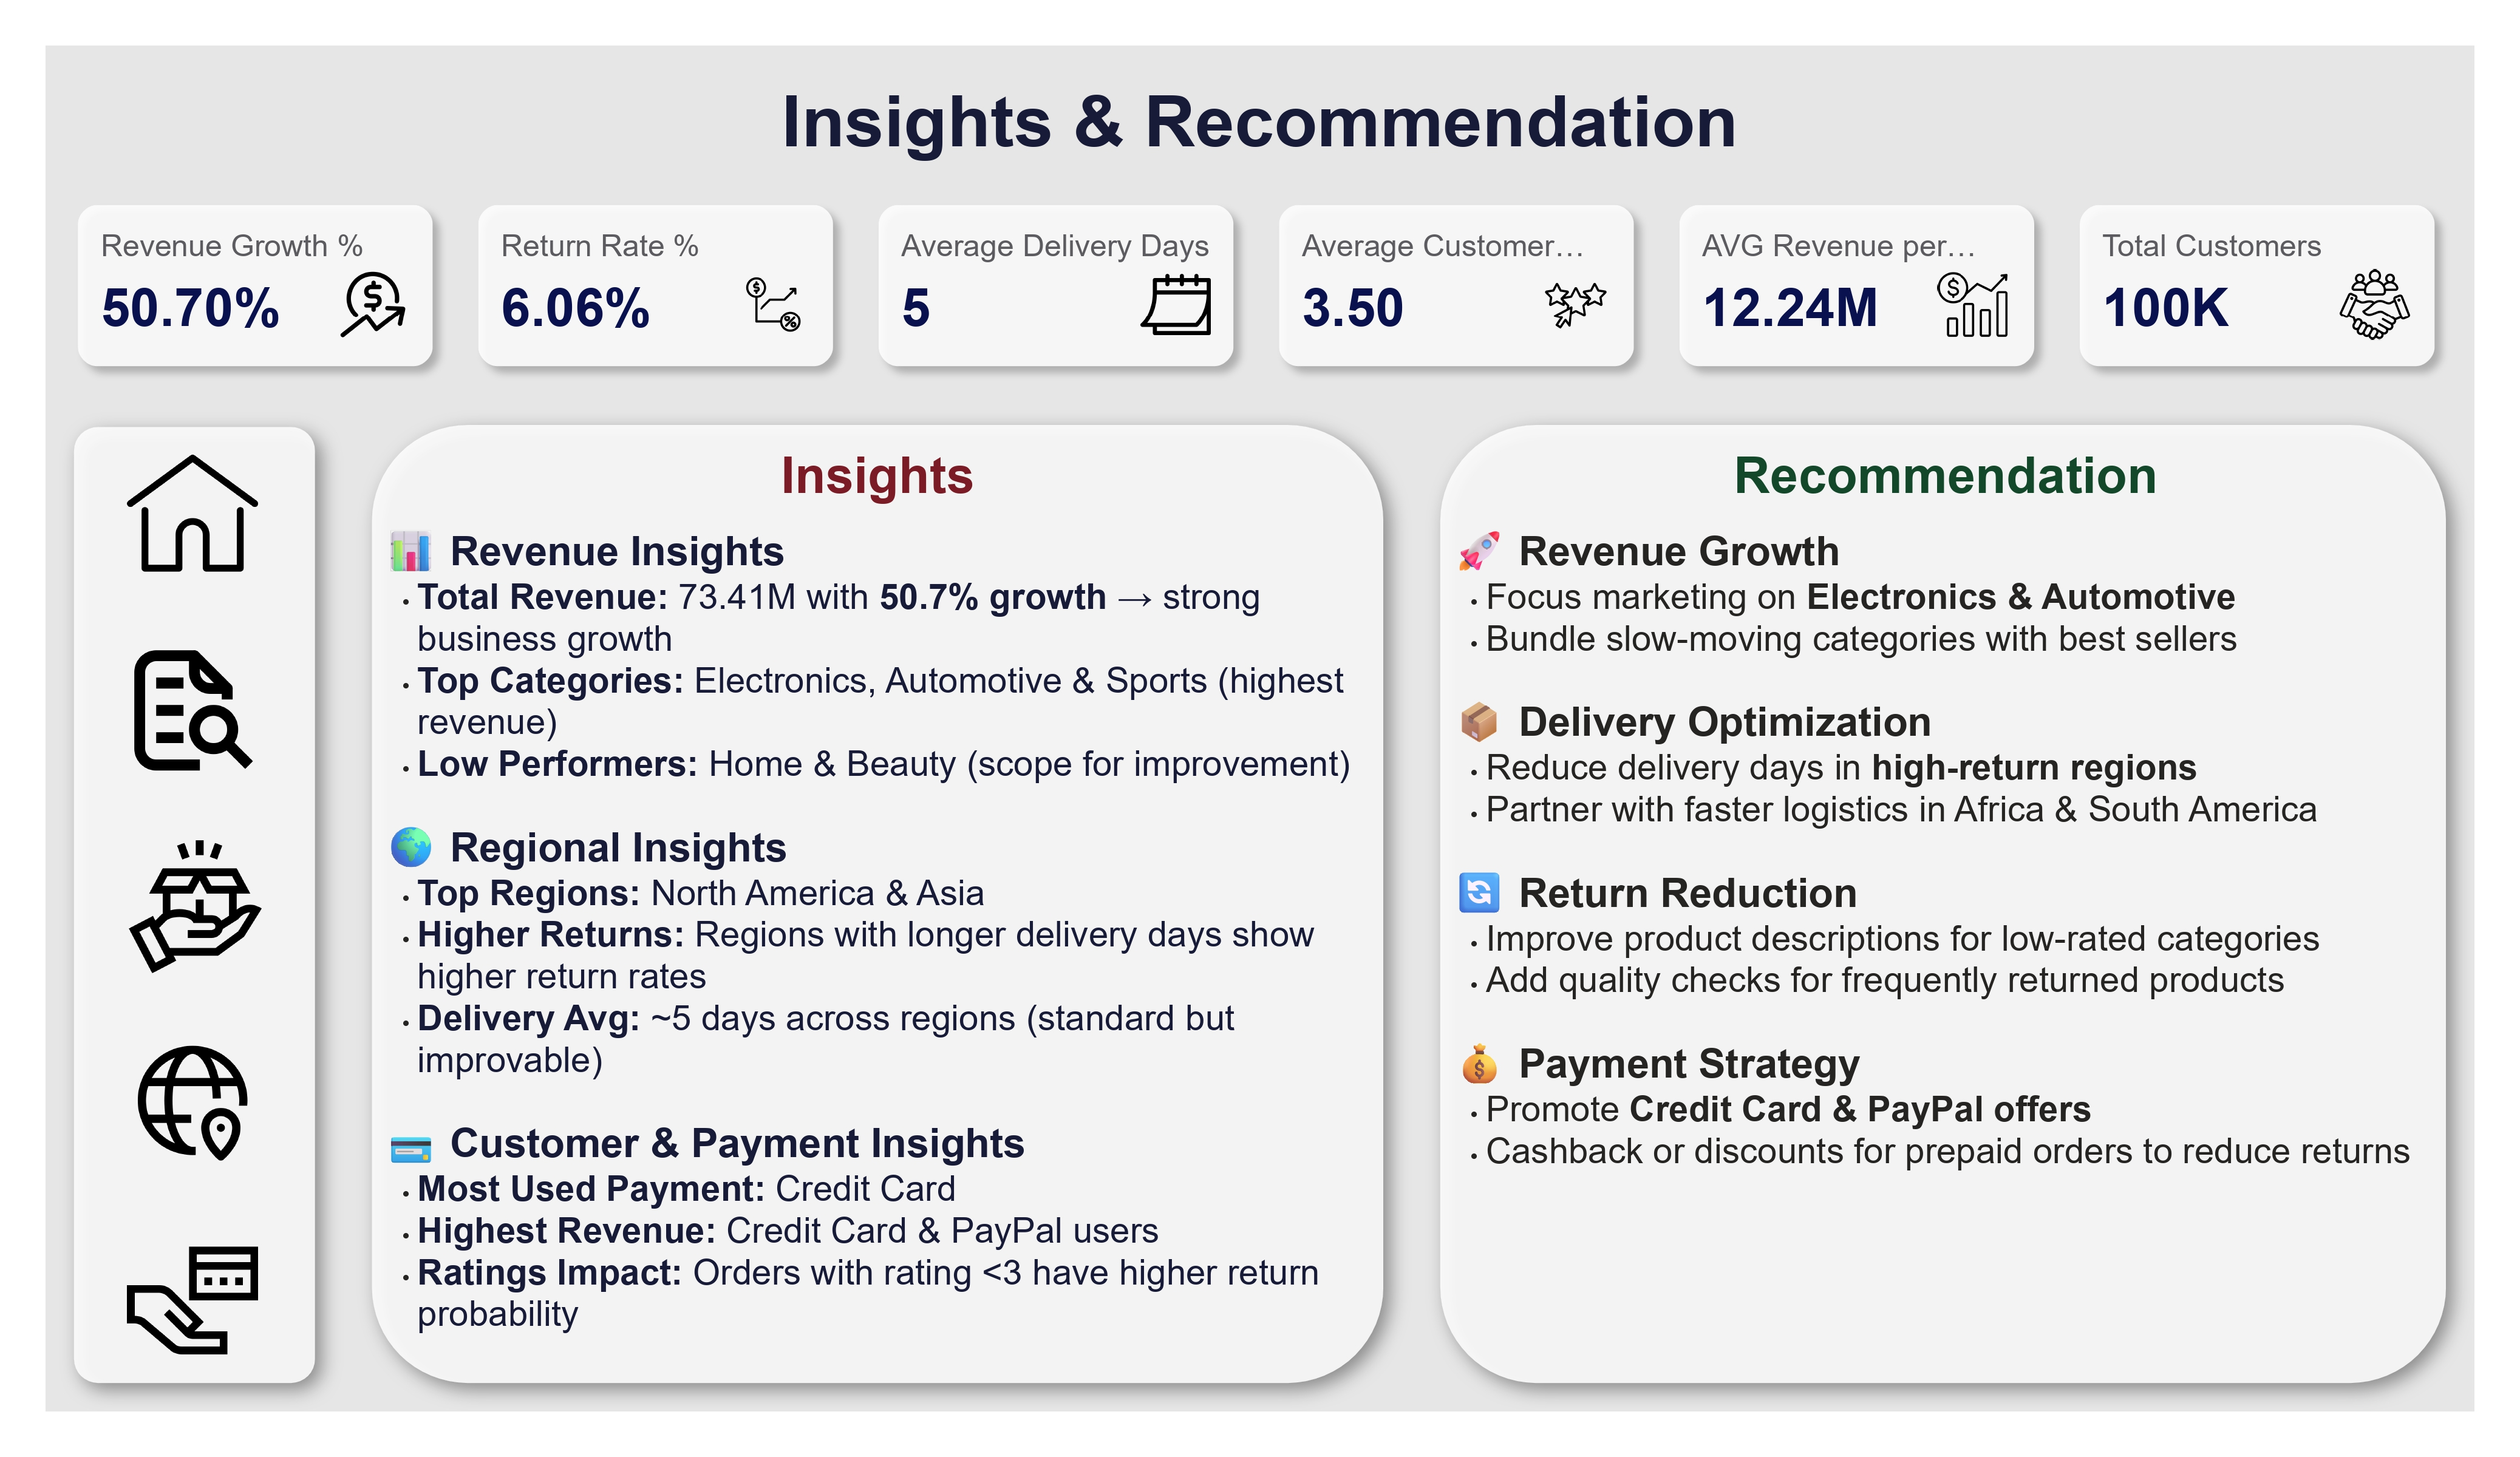

Layout of this report page (visuals, bound fields, positions):
{"tool":"powerbi","page":{"name":"Recommendations","canvas":[1280,720],"ordinal":5},"visuals":[{"type":"textbox","box":[375.7,14.3,528.6,52.9],"z":0},{"type":"shape","box":[0,185.7,157.1,534.3],"z":0},{"type":"image","box":[12.9,206.8,129.3,79.3],"z":0,"group":"g1"},{"type":"shape","box":[156.8,185.2,563,534.6],"z":1000},{"type":"image","box":[14.1,414.1,129.3,79.3],"z":1000,"group":"g1"},{"type":"image","box":[12.9,517.8,129.3,79.3],"z":2000,"group":"g1"},{"type":"shape","box":[719.8,185.2,560.5,534.6],"z":3000},{"type":"image","box":[12.9,621.4,129.3,79.3],"z":3000,"group":"g1"},{"type":"textbox","box":[172.9,245.7,534.3,458.6],"z":3001},{"type":"cardVisual","fields":{"Data":["fact_sales.Revenue Growth %","fact_sales.Return Rate %","fact_sales.Average Delivery Days","fact_sales.Average Customer Rating","fact_sales.Revenue per Region","fact_sales.Total Customers"]},"box":[0,67.1,1280,118.6],"z":3002},{"type":"group","id":"g1","title":"Group 1","box":[12.9,206.8,130.5,493.9],"z":3007},{"type":"textbox","box":[735.7,245.7,531.4,458.6],"z":3008},{"type":"textbox","box":[367.1,207.1,142.9,41.4],"z":3009},{"type":"textbox","box":[880,207.1,242.9,41.4],"z":3010},{"type":"image","box":[148.6,112.9,47.1,47.1],"z":3011},{"type":"image","box":[360,112.9,47.1,47.1],"z":3012},{"type":"image","box":[571.4,112.9,47.1,47.1],"z":3013},{"type":"image","box":[782.9,112.9,47.1,47.1],"z":3014},{"type":"image","box":[991.4,112.9,47.1,47.1],"z":3015},{"type":"image","box":[1204.3,112.9,47.1,47.1],"z":3016},{"type":"image","box":[14.1,310.5,129.3,79.3],"z":4000,"group":"g1"}]}

Visuals, with their boxes on the page's 1280x720 design canvas (x1, y1, x2, y2). These are canvas units, not pixel positions in the 2520x1457 screenshot, which may show the page scaled, cropped or inside an application window:
textbox: <region>376, 14, 904, 67</region>
shape: <region>0, 186, 157, 720</region>
image: <region>13, 207, 142, 286</region>
shape: <region>157, 185, 720, 720</region>
image: <region>14, 414, 143, 493</region>
image: <region>13, 518, 142, 597</region>
shape: <region>720, 185, 1280, 720</region>
image: <region>13, 621, 142, 701</region>
textbox: <region>173, 246, 707, 704</region>
cardVisual - fact_sales.Revenue Growth % x fact_sales.Return Rate %: <region>0, 67, 1280, 186</region>
"Group 1" group: <region>13, 207, 143, 701</region>
textbox: <region>736, 246, 1267, 704</region>
textbox: <region>367, 207, 510, 248</region>
textbox: <region>880, 207, 1123, 248</region>
image: <region>149, 113, 196, 160</region>
image: <region>360, 113, 407, 160</region>
image: <region>571, 113, 618, 160</region>
image: <region>783, 113, 830, 160</region>
image: <region>991, 113, 1038, 160</region>
image: <region>1204, 113, 1251, 160</region>
image: <region>14, 310, 143, 390</region>
